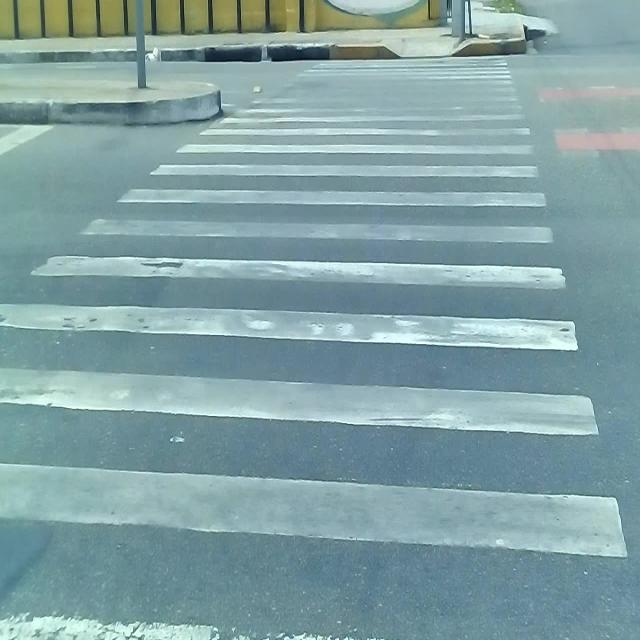crosswalk: (0, 56, 640, 640)
